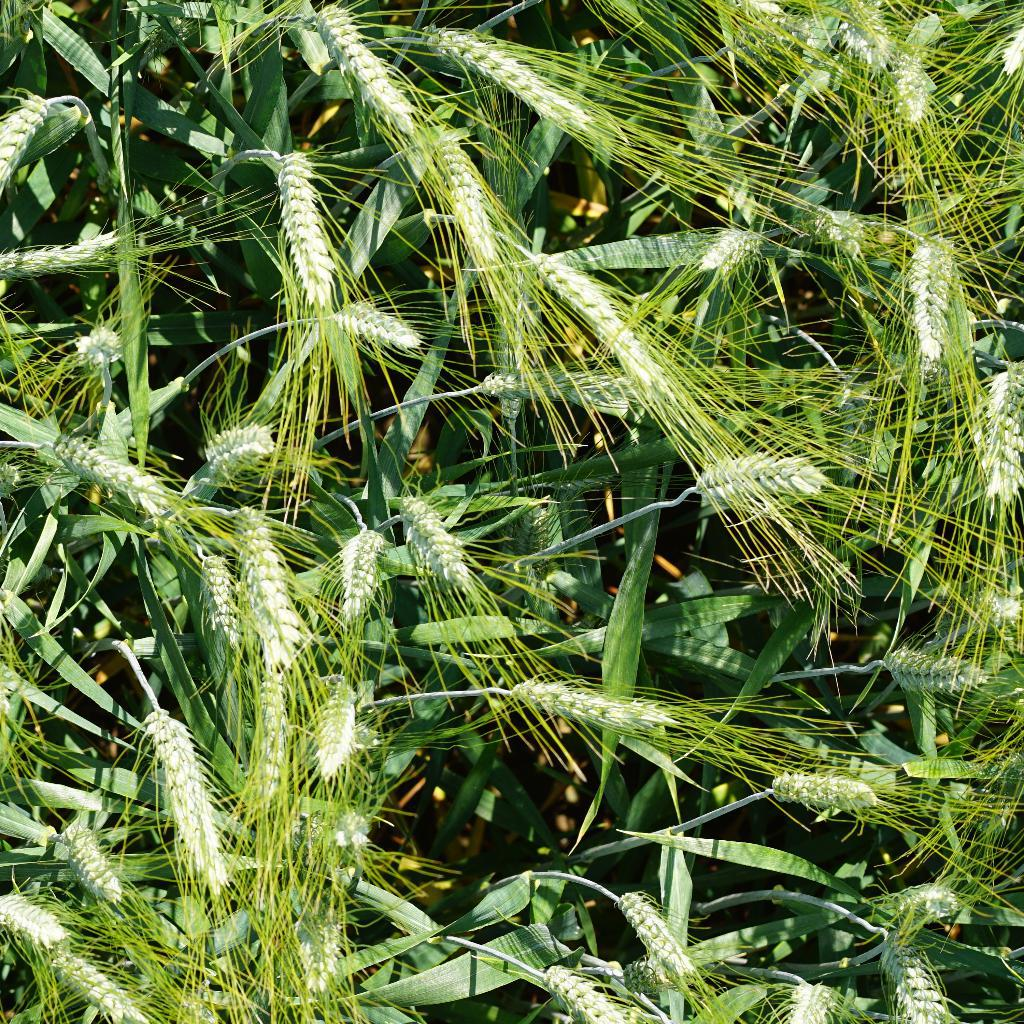0-0: (415, 15, 612, 144), (141, 694, 242, 893), (526, 242, 666, 380), (477, 653, 683, 746), (306, 0, 436, 146), (208, 493, 306, 671), (261, 146, 357, 311), (889, 216, 965, 394), (30, 429, 174, 518), (684, 434, 833, 519), (433, 141, 530, 268), (617, 881, 722, 991), (232, 654, 303, 814), (867, 620, 1009, 695), (754, 742, 881, 817), (322, 514, 396, 637), (299, 672, 374, 791), (0, 68, 62, 209), (538, 955, 658, 1024), (52, 815, 135, 914), (396, 488, 482, 582), (272, 900, 344, 1009), (976, 350, 1024, 509), (316, 296, 433, 361), (49, 949, 150, 1024), (183, 518, 247, 635), (0, 889, 88, 964), (878, 930, 948, 1024), (494, 492, 558, 584), (879, 871, 975, 931), (728, 6, 819, 68), (788, 199, 877, 262), (198, 419, 284, 484), (478, 351, 574, 407), (885, 27, 938, 127), (693, 212, 762, 284), (0, 236, 119, 275), (311, 803, 392, 856), (825, 0, 896, 59), (141, 6, 205, 67), (63, 317, 126, 376), (775, 971, 844, 1024)
